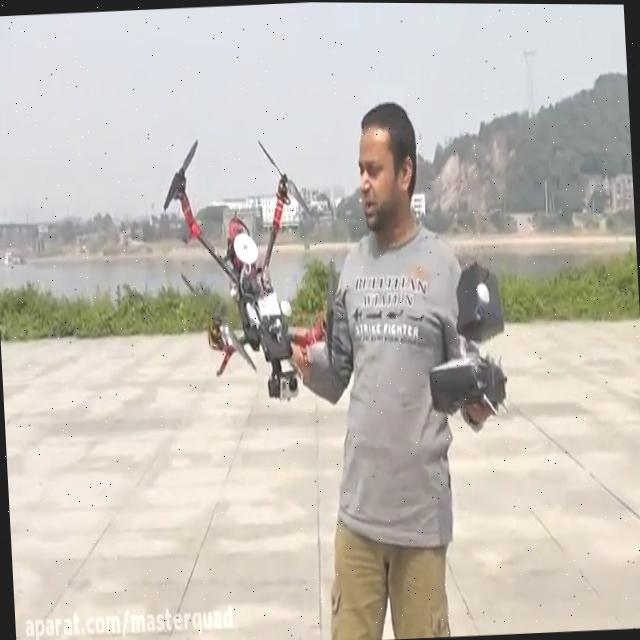drone: (157, 128, 344, 410)
